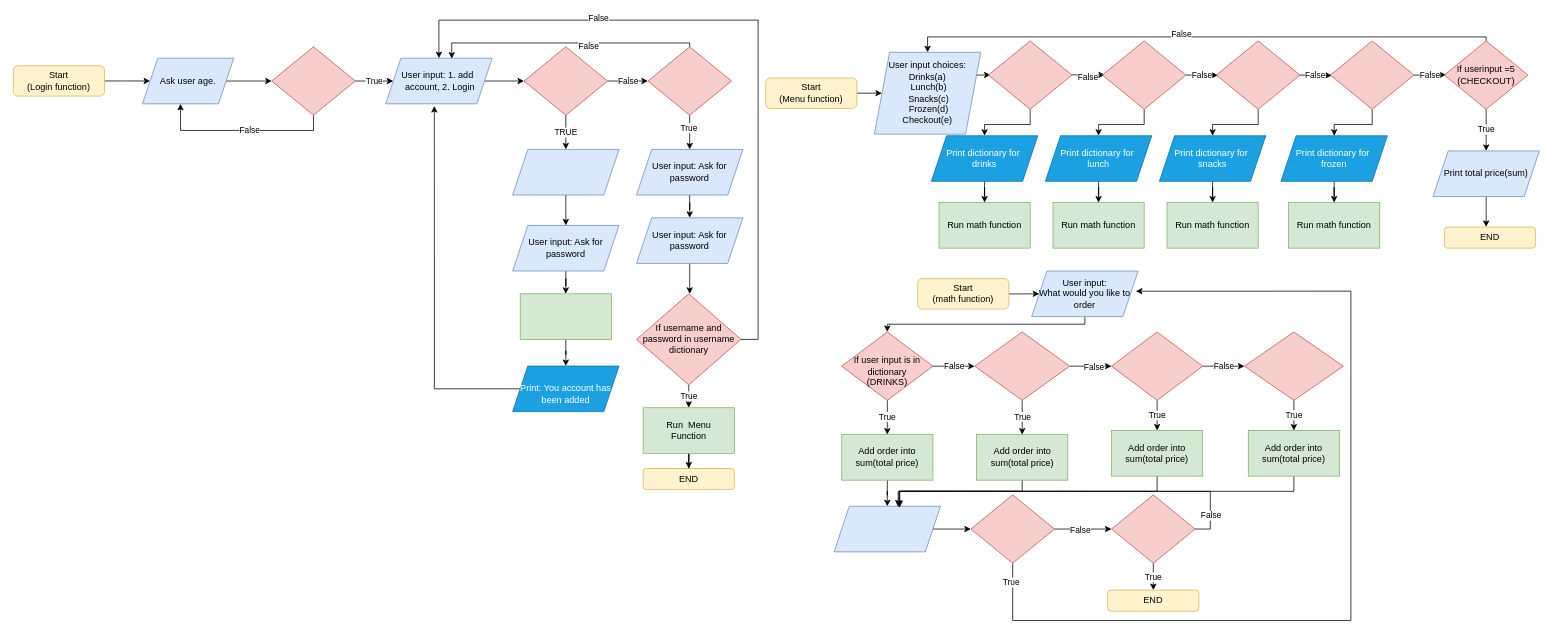
This 1553x640 diagram has some shape labels left out. Each missing label, with the centre of its shape:
"Add username and passoword to dictionary" goes at [565,316].
"If >=14 and <=18" goes at [313,80].
"If no" goes at [1153,528].
"If user input is in dictionary (FROZEN)" goes at [1293,365].
"If user input is in dictionary (LUNCH)" goes at [1022,365].
"If user input is in dictionary (SNACKS)" goes at [1157,365].
"If userinput =3 (SNACKS)" goes at [1258,74].
"If userinput =4 (FROZEN)" goes at [1372,74].
"If userinput =a (DRINKS)" goes at [1030,74].
"If userinput =b (LUNCH)" goes at [1144,74].
"if userinput=1" goes at [565,80].
"if userinput=2" goes at [689,80].
"If Yes" goes at [1012,528].
"User input: Ask for account name" goes at [565,172].
"User input: Would you like another order?" goes at [886,528].
